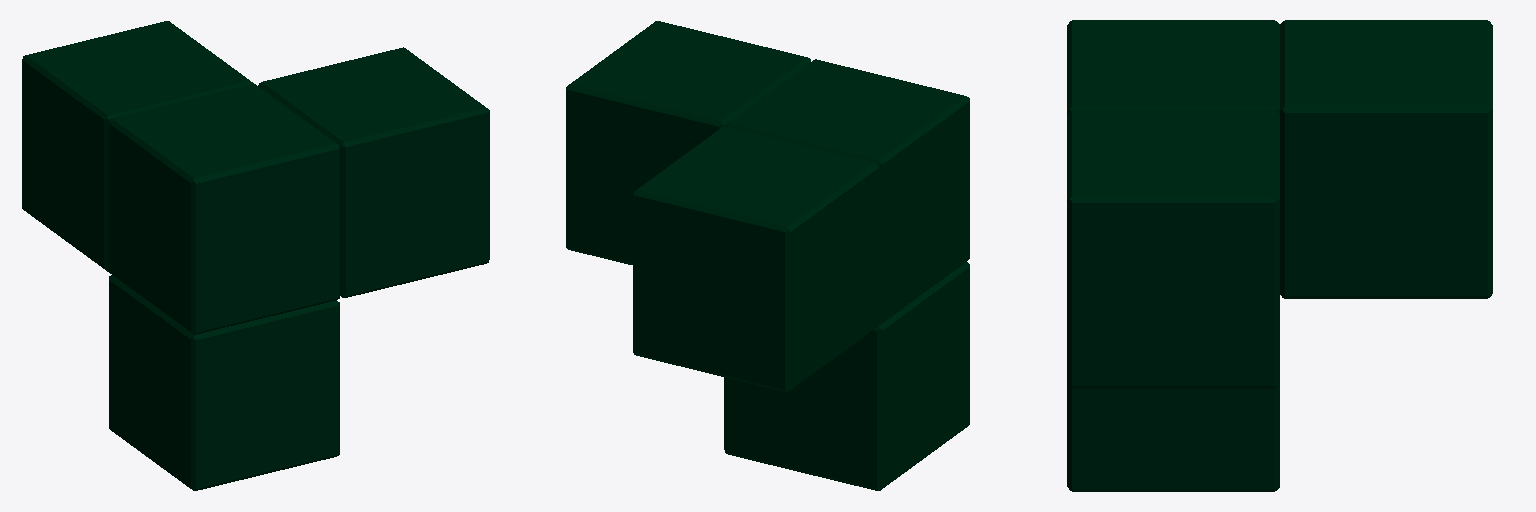
The robot description file, URDF, robot "green_block":
<?xml version="1.0"?>
<robot name="green_block">
	<link name="base_link">
		<visual>
			<geometry>
				<mesh filename="package://irsl_sim_environments/urdf/puzzle_blocks/green_block/green_block_base_link.dae" />
			</geometry>
		</visual>
		<collision>
			<origin xyz="0.000000000000e+00 0.000000000000e+00 0.000000000000e+00" rpy="0.000000000000e+00 -0.000000000000e+00 0.000000000000e+00" />
			<geometry>
				<box size="3.000000000000e-02 3.000000000000e-02 3.000000000000e-02" />
			</geometry>
		</collision>
		<collision>
			<origin xyz="3.000000000000e-02 0.000000000000e+00 3.000000000000e-02" rpy="0.000000000000e+00 -0.000000000000e+00 0.000000000000e+00" />
			<geometry>
				<box size="3.000000000000e-02 3.000000000000e-02 3.000000000000e-02" />
			</geometry>
		</collision>
		<collision>
			<origin xyz="0.000000000000e+00 0.000000000000e+00 3.000000000000e-02" rpy="0.000000000000e+00 -0.000000000000e+00 0.000000000000e+00" />
			<geometry>
				<box size="3.000000000000e-02 3.000000000000e-02 3.000000000000e-02" />
			</geometry>
		</collision>
		<collision>
			<origin xyz="0.000000000000e+00 3.000000000000e-02 3.000000000000e-02" rpy="0.000000000000e+00 -0.000000000000e+00 0.000000000000e+00" />
			<geometry>
				<box size="3.000000000000e-02 3.000000000000e-02 3.000000000000e-02" />
			</geometry>
		</collision>
		<inertial>
			<mass value="0.021599999999999998" />
			<!--origin xyz="7.500000000000e-03 7.500000000000e-03 2.250000000000e-02" / original params -->
      <origin xyz="2.500000000000e-03 2.500000000000e-03 2.250000000000e-02" /> <!-- hot fix for simulation -->
			<inertia ixx="1.0529999999999997e-05" ixy="1.2149999999999998e-06" ixz="-1.2149999999999998e-06" iyy="1.0529999999999997e-05" iyz="-1.2149999999999998e-06" izz="1.0529999999999997e-05" />
		</inertial>
	</link>
<!-- HotFix for gazebo (manually added) -->
<gazebo reference="base_link">
 <collision>
  <surface>
   <contact>
    <ode>
     <kp>500.0</kp>
     <kd>0.01</kd>
     <max_vel>0.0</max_vel>
     <min_depth>0.0004</min_depth>
    </ode>
   </contact>
   <friction>
    <ode>
     <mu>10.0</mu>
     <mu2>10.0</mu2>
    </ode>
   </friction>
  </surface>
 </collision>
</gazebo>
</robot>

--- What the picture shows (computed from the rendered views, not written in the file) ---
The picture shows the robot from 3 angles, left to right: view 1: azimuth 30°, elevation 25°; view 2: azimuth 150°, elevation 25°; view 3: azimuth 270°, elevation 25°; orthographic projection.
Robot: green_block — 1 links, 0 joints (none); root link base_link; default pose: every joint at zero.
Links seen in each view (by area): view 1: base_link; view 2: base_link; view 3: base_link.
Boxes of the visible links, box(x1,y1,x2,y2) form: base_link: box(22, 21, 489, 490); base_link: box(566, 21, 969, 490); base_link: box(1067, 20, 1492, 491).
Size in the robot's own frame: 0.06 by 0.06 by 0.06 metres.
Meshes: 1 distinct files referenced, 1 mesh visuals loaded (1 Collada DAE).